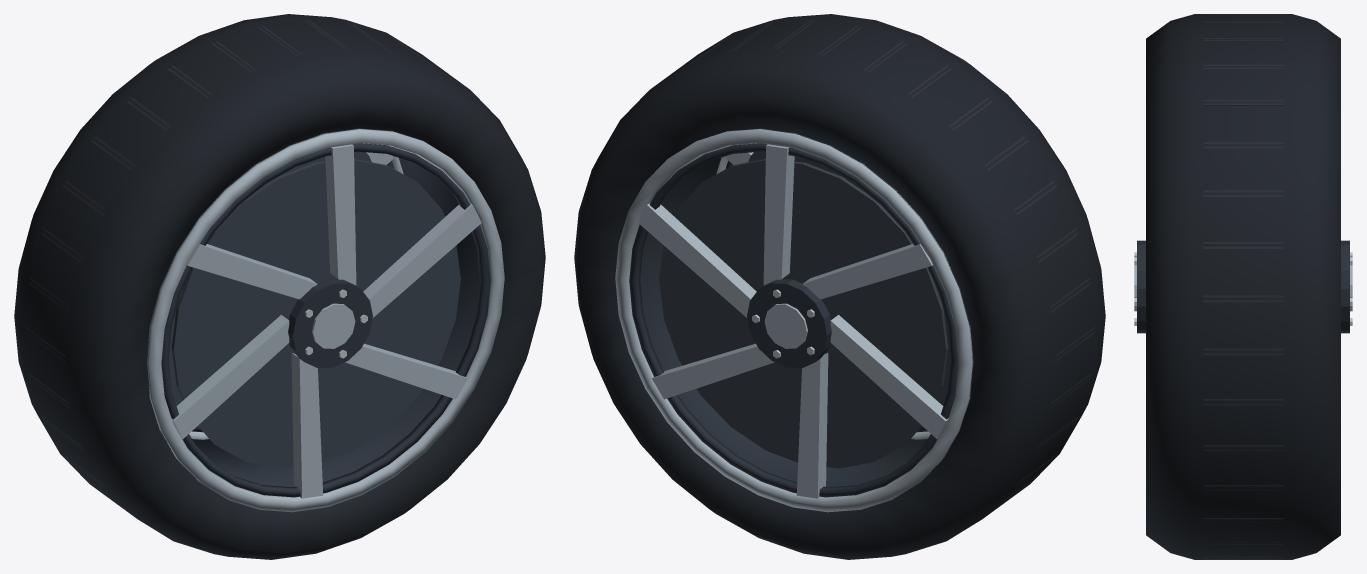
File: helix.glb
3 views of the same model, side by side, from view 1: azimuth 30°, elevation 25°; view 2: azimuth 150°, elevation 25°; view 3: azimuth 270°, elevation 25° (orthographic).
Visible parts, largest first — view 1: wheel; view 2: wheel; view 3: wheel.
Part boxes in pixels (x1=…): wheel: x1=14, y1=14, x2=545, y2=559; wheel: x1=574, y1=14, x2=1105, y2=559; wheel: x1=1134, y1=14, x2=1352, y2=559.
Bounding box in the file's own units: 2 × 2 × 0.8.
